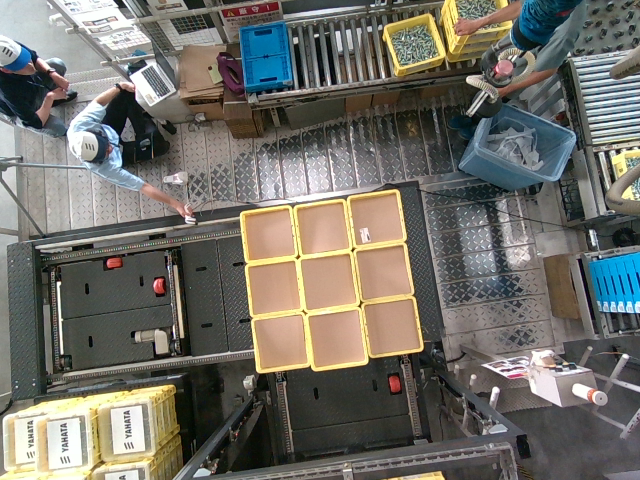box: (238, 207, 298, 261), (289, 198, 349, 252), (346, 190, 406, 244), (352, 246, 412, 300), (297, 255, 357, 309), (246, 260, 306, 314), (250, 315, 310, 369), (306, 311, 366, 365), (361, 299, 421, 353)
